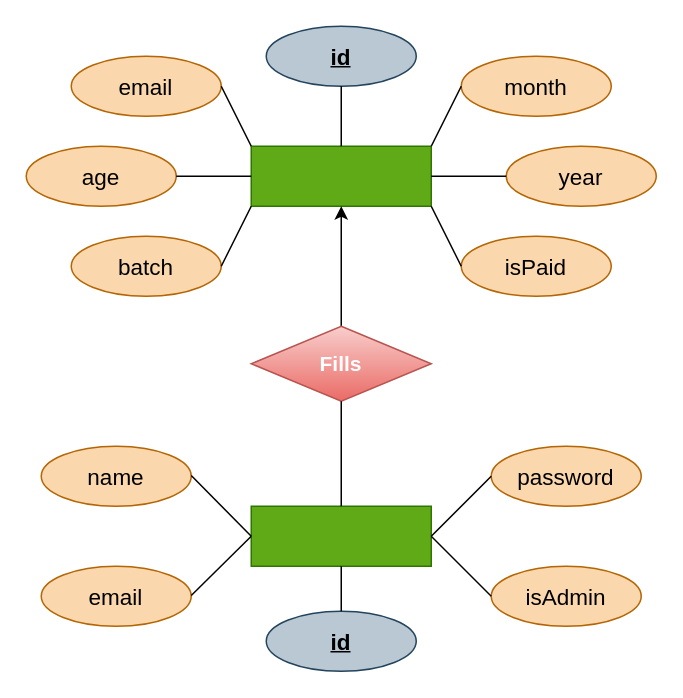
This 683x698 diagram has some shape labels left out. The box of each missing label's shape, as (x1, y1, x2, y2) in pixels:
Form: (250, 145, 431, 206)
User: (250, 505, 431, 566)
